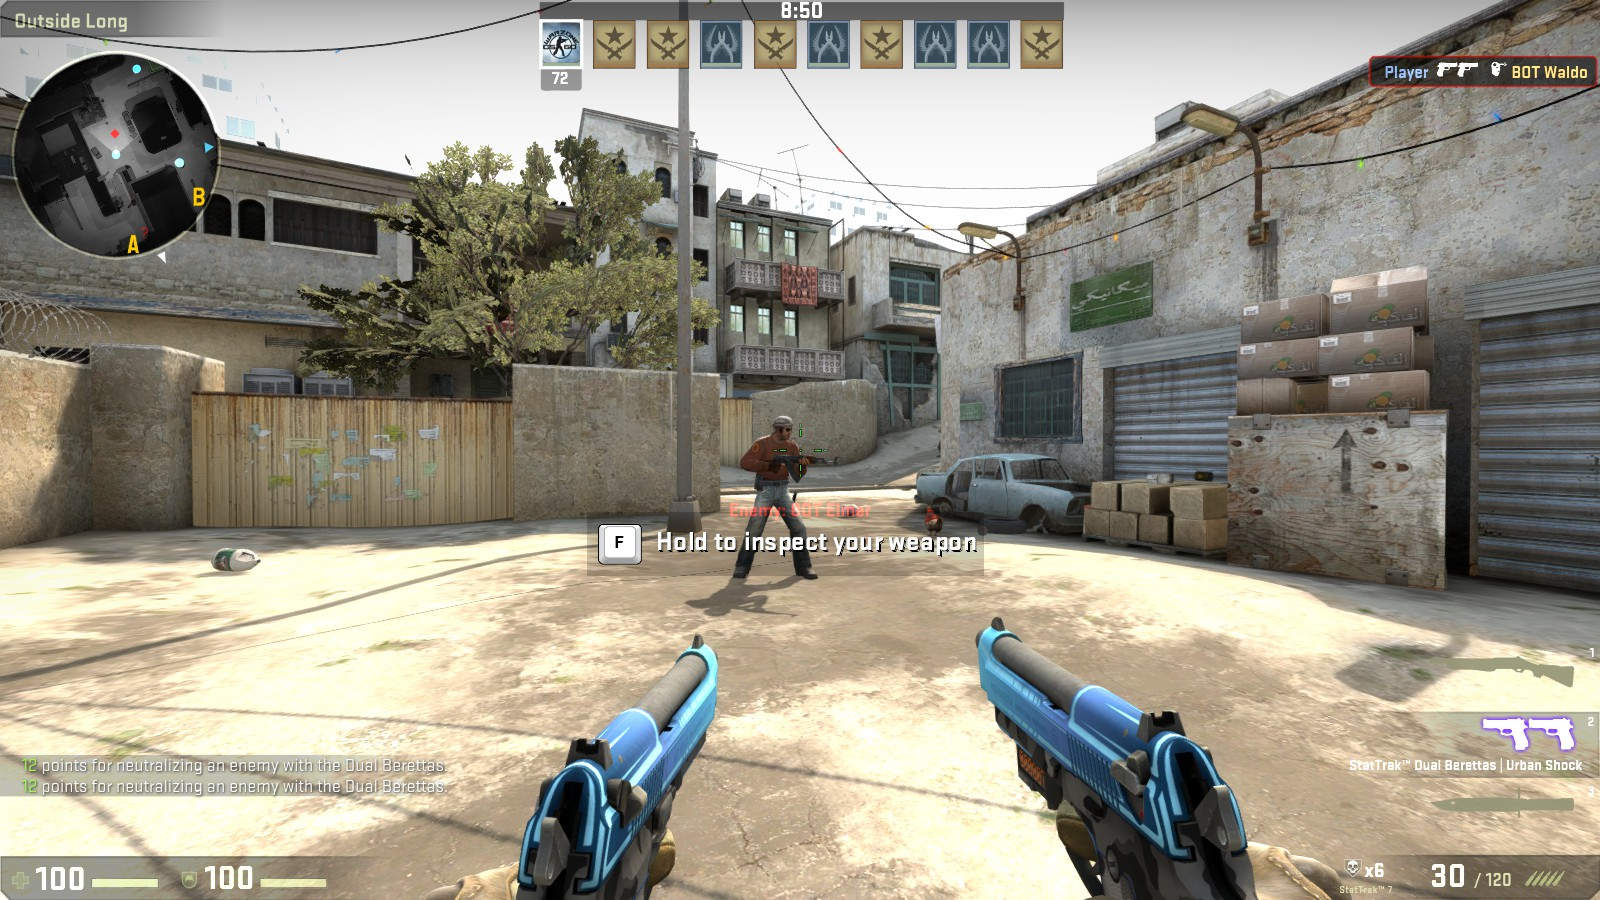t: (743, 414, 805, 582)
th: (768, 414, 795, 444)
